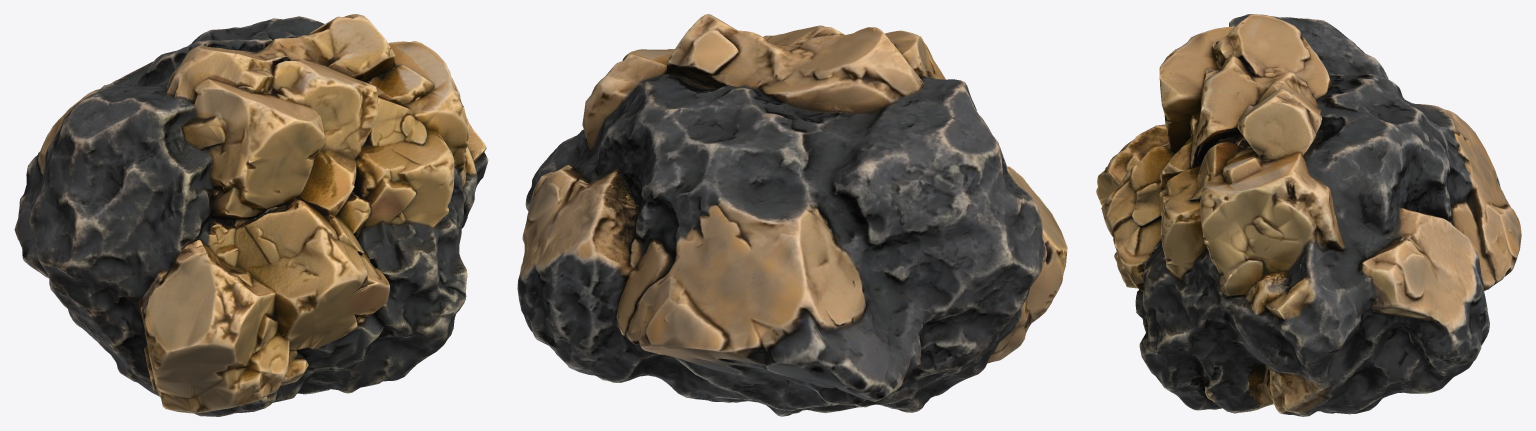
The model's file is gold__gold-ore.glb.
The picture shows the model from 3 angles, left to right: view 1: azimuth 30°, elevation 25°; view 2: azimuth 150°, elevation 25°; view 3: azimuth 270°, elevation 25°; orthographic projection. The views are drawn at different scales.
Size of the model in its own units: 1.9 by 1.4 by 1.6.
1 material, 1 textured.
